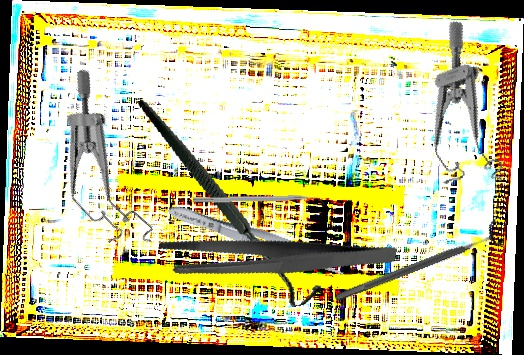Chopper: (192, 194, 326, 211)
Dressing Forceps: (153, 188, 398, 327), (165, 198, 350, 279)
Fixation Ring: (330, 218, 506, 312)
Hook Surgical: (137, 73, 325, 329)
Speculum: (9, 65, 202, 265), (393, 17, 518, 202)
